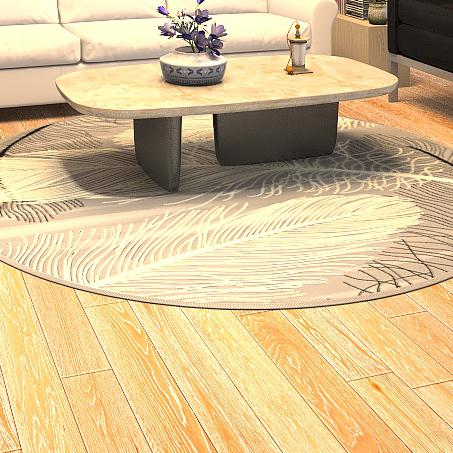table: (50, 55, 399, 185)
